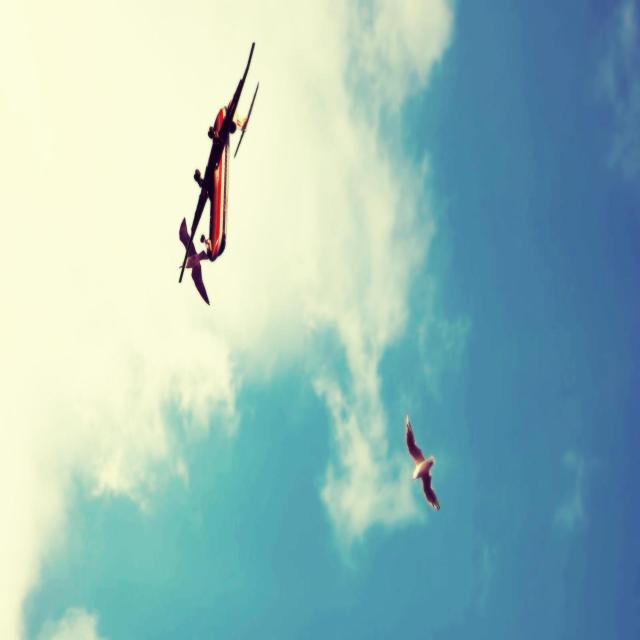airplane: (178, 41, 259, 284)
